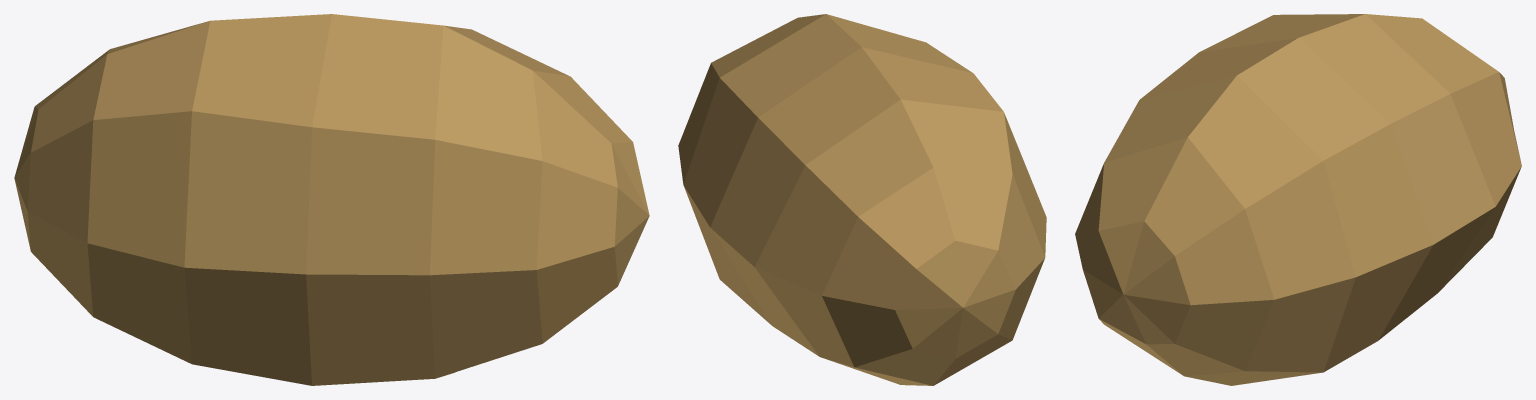
File: FoodPotato.fbx
3 views of the same model, side by side, from view 1: azimuth 30°, elevation 25°; view 2: azimuth 150°, elevation 25°; view 3: azimuth 270°, elevation 25° (orthographic). The views are drawn at different scales.
Visible parts, largest first — view 1: pSphere34; view 2: pSphere34; view 3: pSphere34.
Boxes of the visible parts, bbox=[...] form: pSphere34: bbox=[14, 14, 649, 385]; pSphere34: bbox=[678, 14, 1046, 385]; pSphere34: bbox=[1075, 14, 1521, 385].
Bounding box in the file's own units: 18.64 × 13.39 × 16.72.
